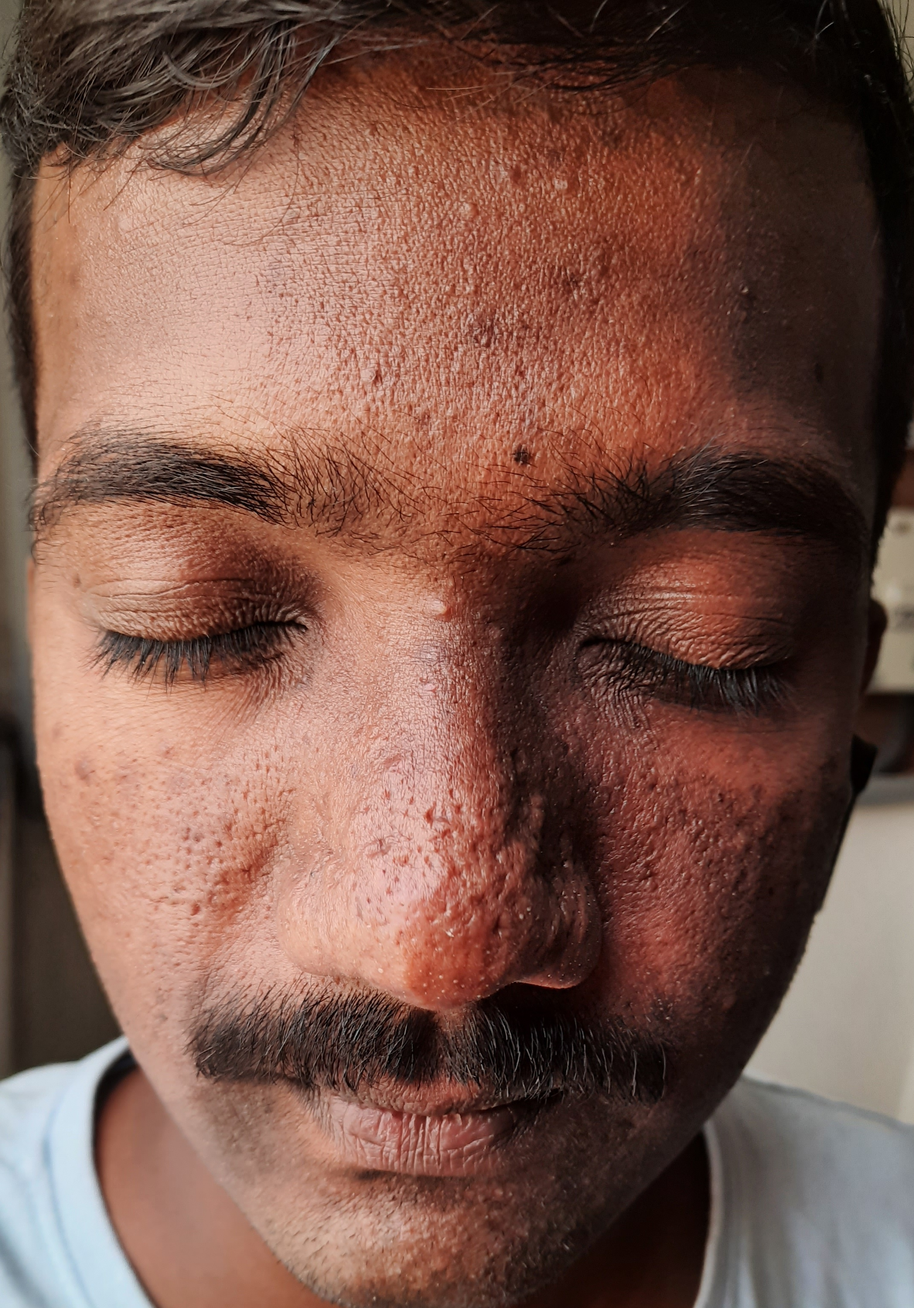closed_comedone: (510, 156, 596, 215), (428, 174, 499, 232)
pustule: (415, 577, 473, 640), (415, 1216, 482, 1264)
